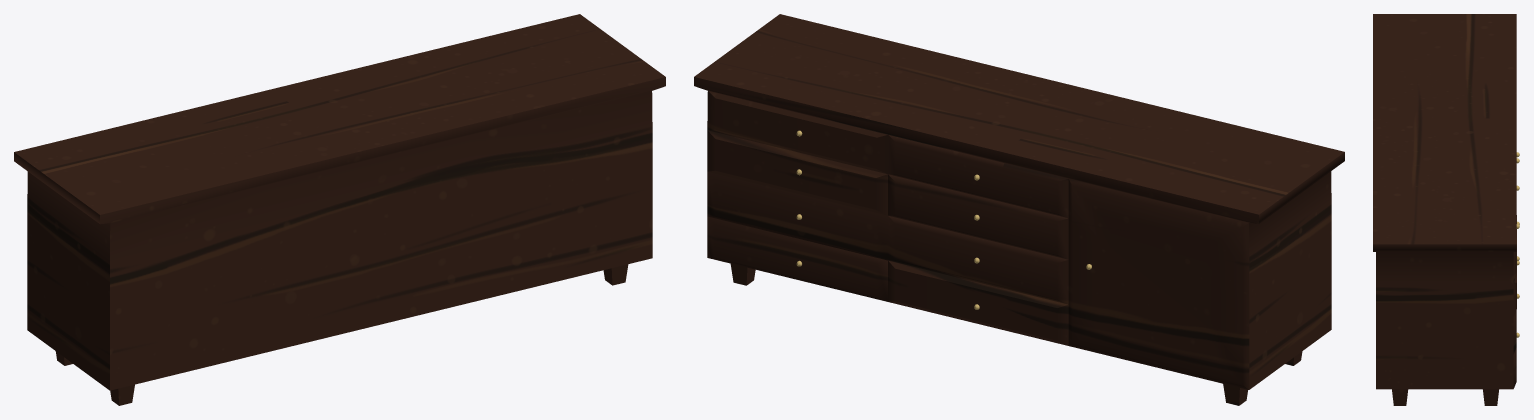
Rendered from tvkast.fbx.
3 renders of one model, left to right at view 1: azimuth 30°, elevation 25°; view 2: azimuth 150°, elevation 25°; view 3: azimuth 270°, elevation 25°, orthographic. The views are drawn at different scales.
Parts seen in each view (by area): view 1: pCube7; view 2: pCube7; view 3: pCube7.
Part boxes in pixels (bbox=[...]): pCube7: bbox=[14, 14, 665, 405]; pCube7: bbox=[694, 14, 1344, 405]; pCube7: bbox=[1373, 14, 1519, 405].
Bounding box in the file's own units: 15.12 × 5.3 × 4.07.
